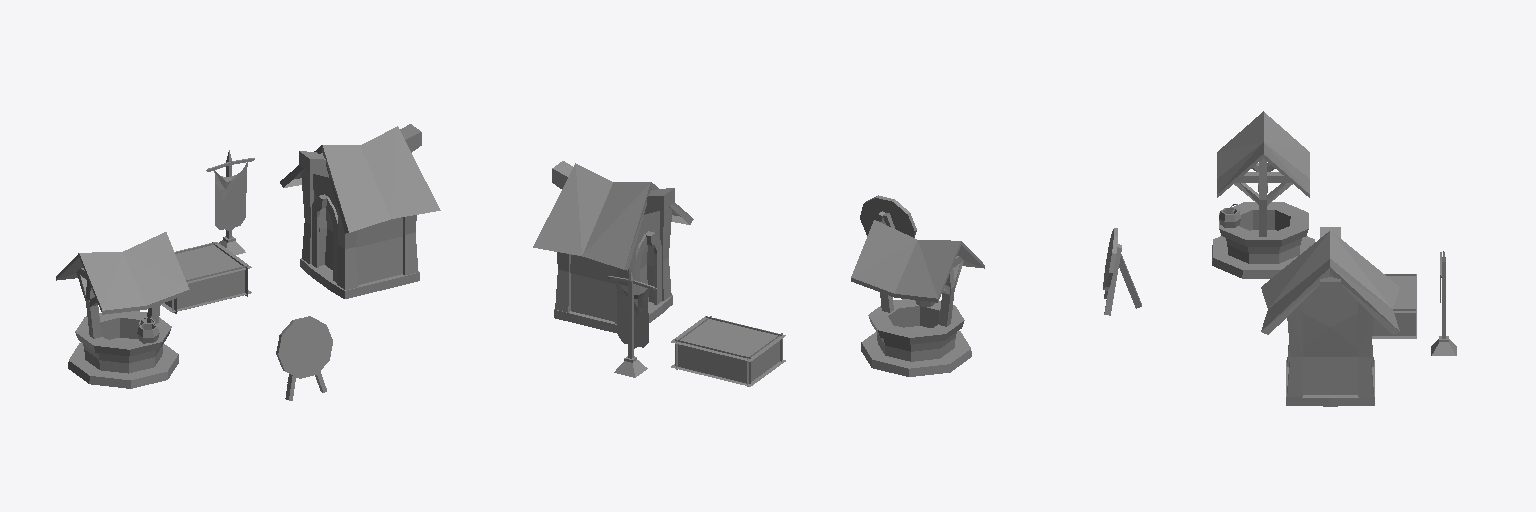
The model's file is aSSETS2.obj.
3 renders of one model, left to right at view 1: azimuth 30°, elevation 25°; view 2: azimuth 150°, elevation 25°; view 3: azimuth 270°, elevation 25°, orthographic.
Parts seen in each view (by area): view 1: aSSETS2:Object004, aSSETS2:Object003, aSSETS2:Pozo, aSSETS2:Object002, aSSETS2:Object005; view 2: aSSETS2:Object004, aSSETS2:Object003, aSSETS2:Pozo, aSSETS2:Object005, aSSETS2:Object002; view 3: aSSETS2:Object004, aSSETS2:Object003, aSSETS2:Pozo, aSSETS2:Object002, aSSETS2:Object005.
Boxes of the visible parts, <box> form: aSSETS2:Object004: <box>280,124,440,298</box>; aSSETS2:Object003: <box>56,232,189,388</box>; aSSETS2:Pozo: <box>161,242,251,313</box>; aSSETS2:Object002: <box>276,316,332,400</box>; aSSETS2:Object005: <box>206,150,254,254</box>; aSSETS2:Object004: <box>533,161,693,333</box>; aSSETS2:Object003: <box>851,220,984,376</box>; aSSETS2:Pozo: <box>671,316,785,386</box>; aSSETS2:Object005: <box>607,270,656,377</box>; aSSETS2:Object002: <box>860,195,916,237</box>; aSSETS2:Object004: <box>1261,227,1399,406</box>; aSSETS2:Object003: <box>1212,111,1314,278</box>; aSSETS2:Pozo: <box>1372,274,1416,338</box>; aSSETS2:Object002: <box>1103,228,1141,315</box>; aSSETS2:Object005: <box>1431,251,1456,355</box>.
Size of the model in its own units: 23.6 by 8.59 by 19.47.